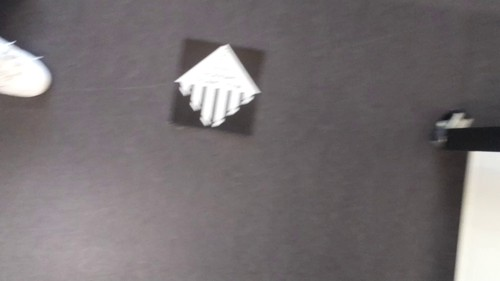misgoods: (173, 45, 263, 129)
